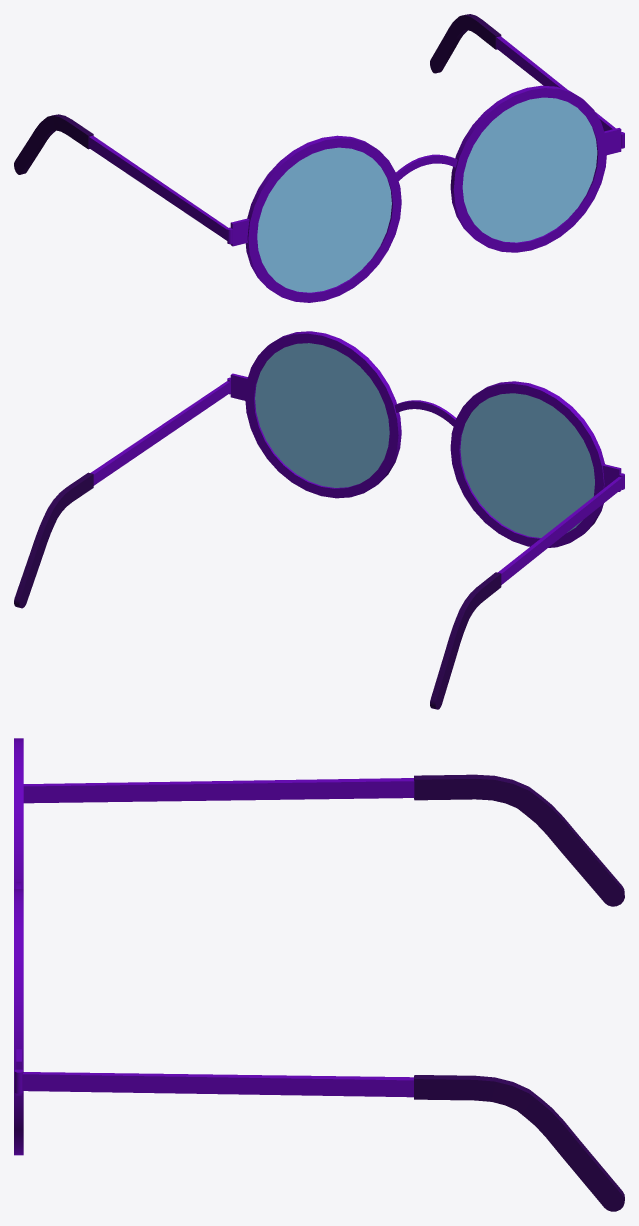
File: grandma glasses.glb
3 views of the same model, one above another, from view 1: azimuth 30°, elevation 25°; view 2: azimuth 150°, elevation 25°; view 3: azimuth 270°, elevation 25° (orthographic). The views are drawn at different scales.
Parts seen in each view (by area): view 1: glasses3.001; view 2: glasses3.001; view 3: glasses3.001.
Boxes of the visible parts, x1,y1,x2,y2 form: glasses3.001: (14,14,624,302); glasses3.001: (14,331,624,709); glasses3.001: (14,738,624,1211).
Bounding box in the file's own units: 1.94 × 0.7074 × 1.62.
